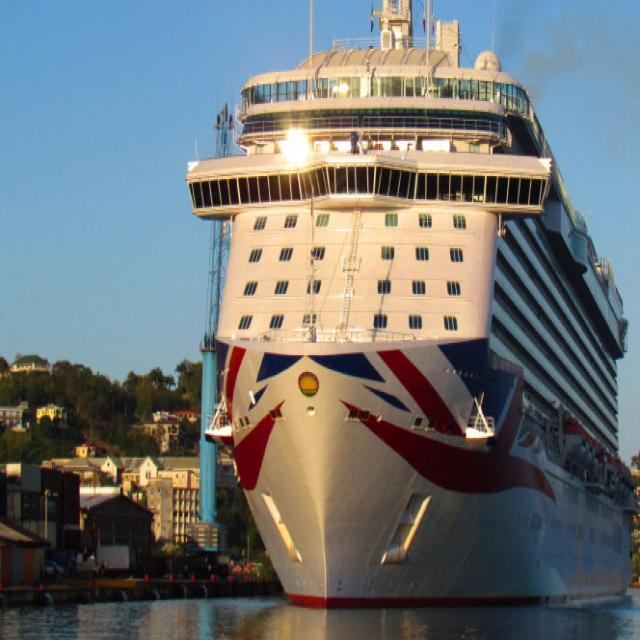cruises: (185, 1, 640, 618)
